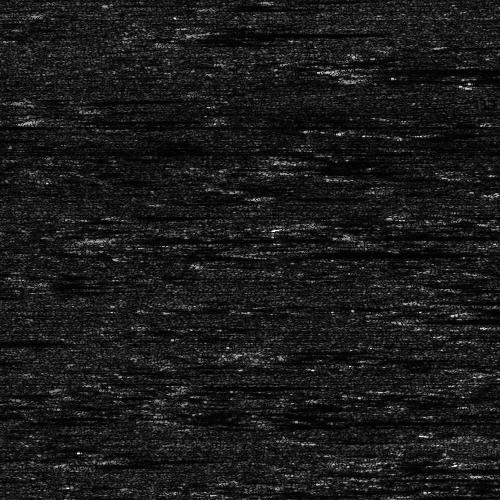rock: (273, 62, 440, 77), (218, 244, 333, 257), (369, 314, 474, 323), (270, 152, 323, 165), (6, 116, 79, 125), (255, 166, 338, 173), (141, 232, 204, 241), (325, 230, 378, 239), (325, 74, 388, 81), (200, 25, 231, 38), (391, 296, 464, 301), (449, 431, 500, 438), (439, 219, 500, 224), (473, 188, 500, 197), (16, 96, 57, 101), (460, 470, 491, 475), (249, 194, 290, 197), (379, 494, 420, 497), (183, 383, 194, 390)
shadow: (276, 244, 465, 257), (357, 62, 500, 77), (173, 232, 391, 241), (216, 25, 364, 38), (297, 152, 410, 165), (352, 230, 500, 239), (43, 116, 177, 125), (357, 74, 500, 81), (297, 166, 410, 173), (422, 314, 500, 323), (37, 96, 172, 101), (189, 383, 262, 390), (0, 336, 41, 345), (428, 296, 500, 301), (400, 494, 482, 497), (270, 194, 344, 197), (476, 431, 500, 438), (471, 219, 500, 224), (0, 132, 12, 143), (476, 470, 500, 475)
